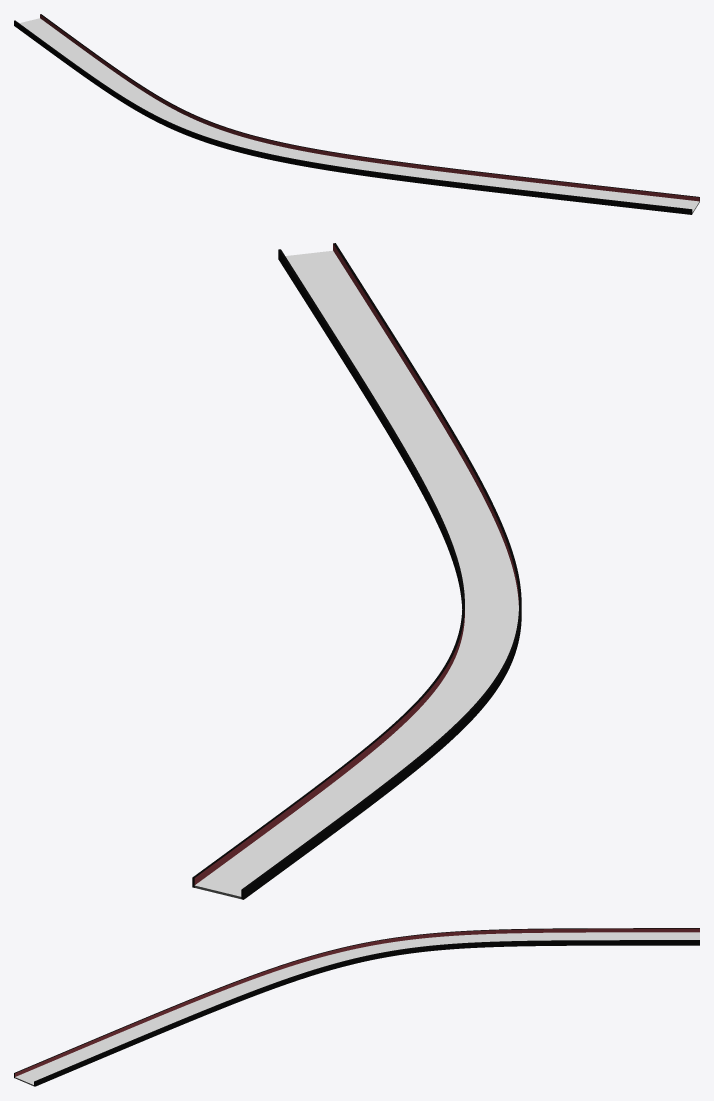
File: Rotate_45_Left_Road.fbx
3 views of the same model, one above another, from view 1: azimuth 30°, elevation 25°; view 2: azimuth 150°, elevation 25°; view 3: azimuth 270°, elevation 25° (orthographic). The views are drawn at different scales.
Visible parts, largest first — view 1: Road Sides, Right Wall, Left Wall; view 2: Road Sides, Right Wall, Left Wall; view 3: Road Sides, Left Wall, Right Wall.
Part boxes in pixels (x1=…): Road Sides: x1=19, y1=18, x2=699, y2=213; Right Wall: x1=14, y1=20, x2=692, y2=214; Left Wall: x1=40, y1=14, x2=699, y2=201; Road Sides: x1=194, y1=250, x2=518, y2=898; Right Wall: x1=241, y1=243, x2=521, y2=899; Left Wall: x1=192, y1=249, x2=464, y2=887; Road Sides: x1=15, y1=932, x2=699, y2=1086; Left Wall: x1=34, y1=940, x2=699, y2=1086; Right Wall: x1=14, y1=928, x2=699, y2=1078.
Bounding box in the file's own units: 26950 × 401 × 50797.
